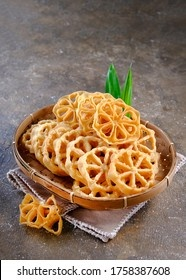kembang_goyang: (97, 99, 147, 150)
